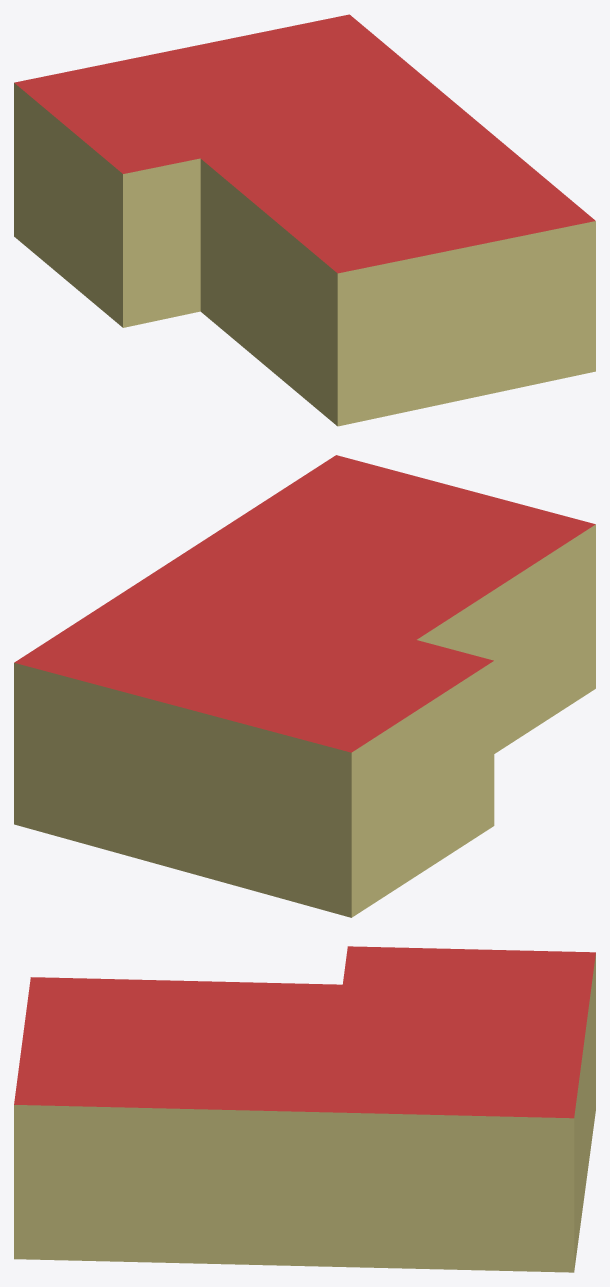
3 views of the same model, one above another, from view 1: azimuth 30°, elevation 25°; view 2: azimuth 150°, elevation 25°; view 3: azimuth 270°, elevation 25° (orthographic). The views are drawn at different scales.
Size of the model in its own units: 10.78 by 15.73 by 4.7.
